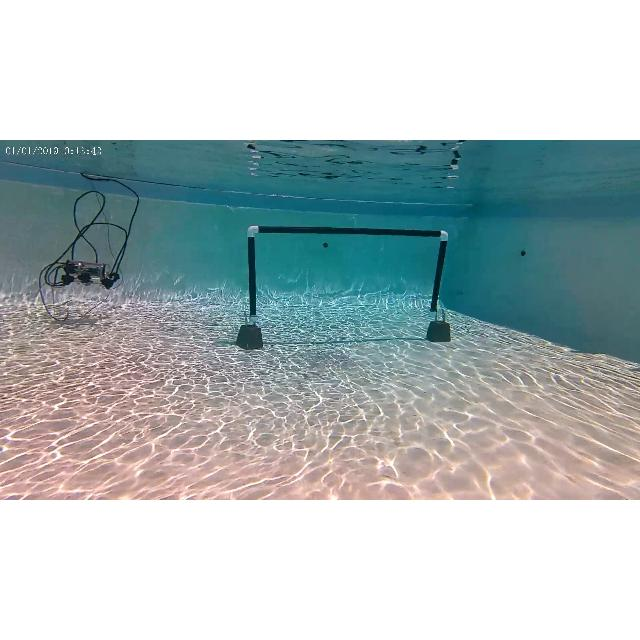prequal gate: (246, 222, 452, 326)
prequal gate leg l: (246, 222, 258, 322)
prequal gate leg r: (427, 225, 451, 318)
